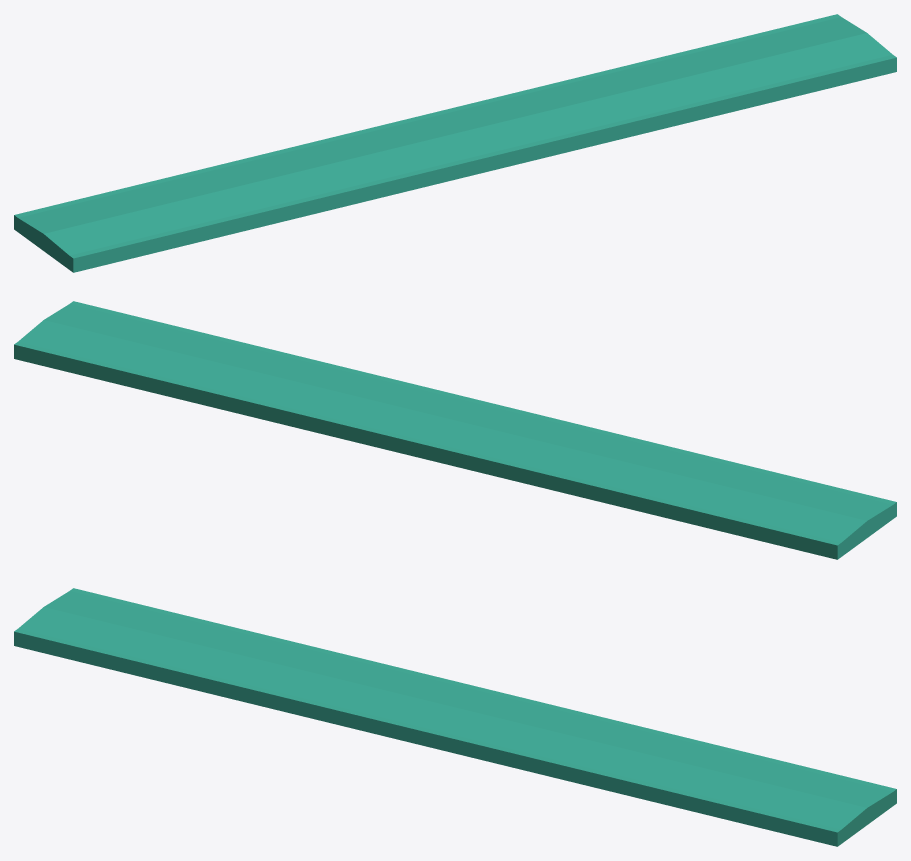
Rendered from bar_strip.glb.
3 views of the same model, one above another, from view 1: azimuth 30°, elevation 25°; view 2: azimuth 150°, elevation 25°; view 3: azimuth 330°, elevation 25° (orthographic).
Parts seen in each view (by area): view 1: strip; view 2: strip; view 3: strip.
Part boxes in pixels (<box>): strip: <box>14,14,896,272</box>; strip: <box>14,301,896,559</box>; strip: <box>14,588,896,846</box>.
Bounding box in the file's own units: 0.24 × 0.0048 × 0.03.
